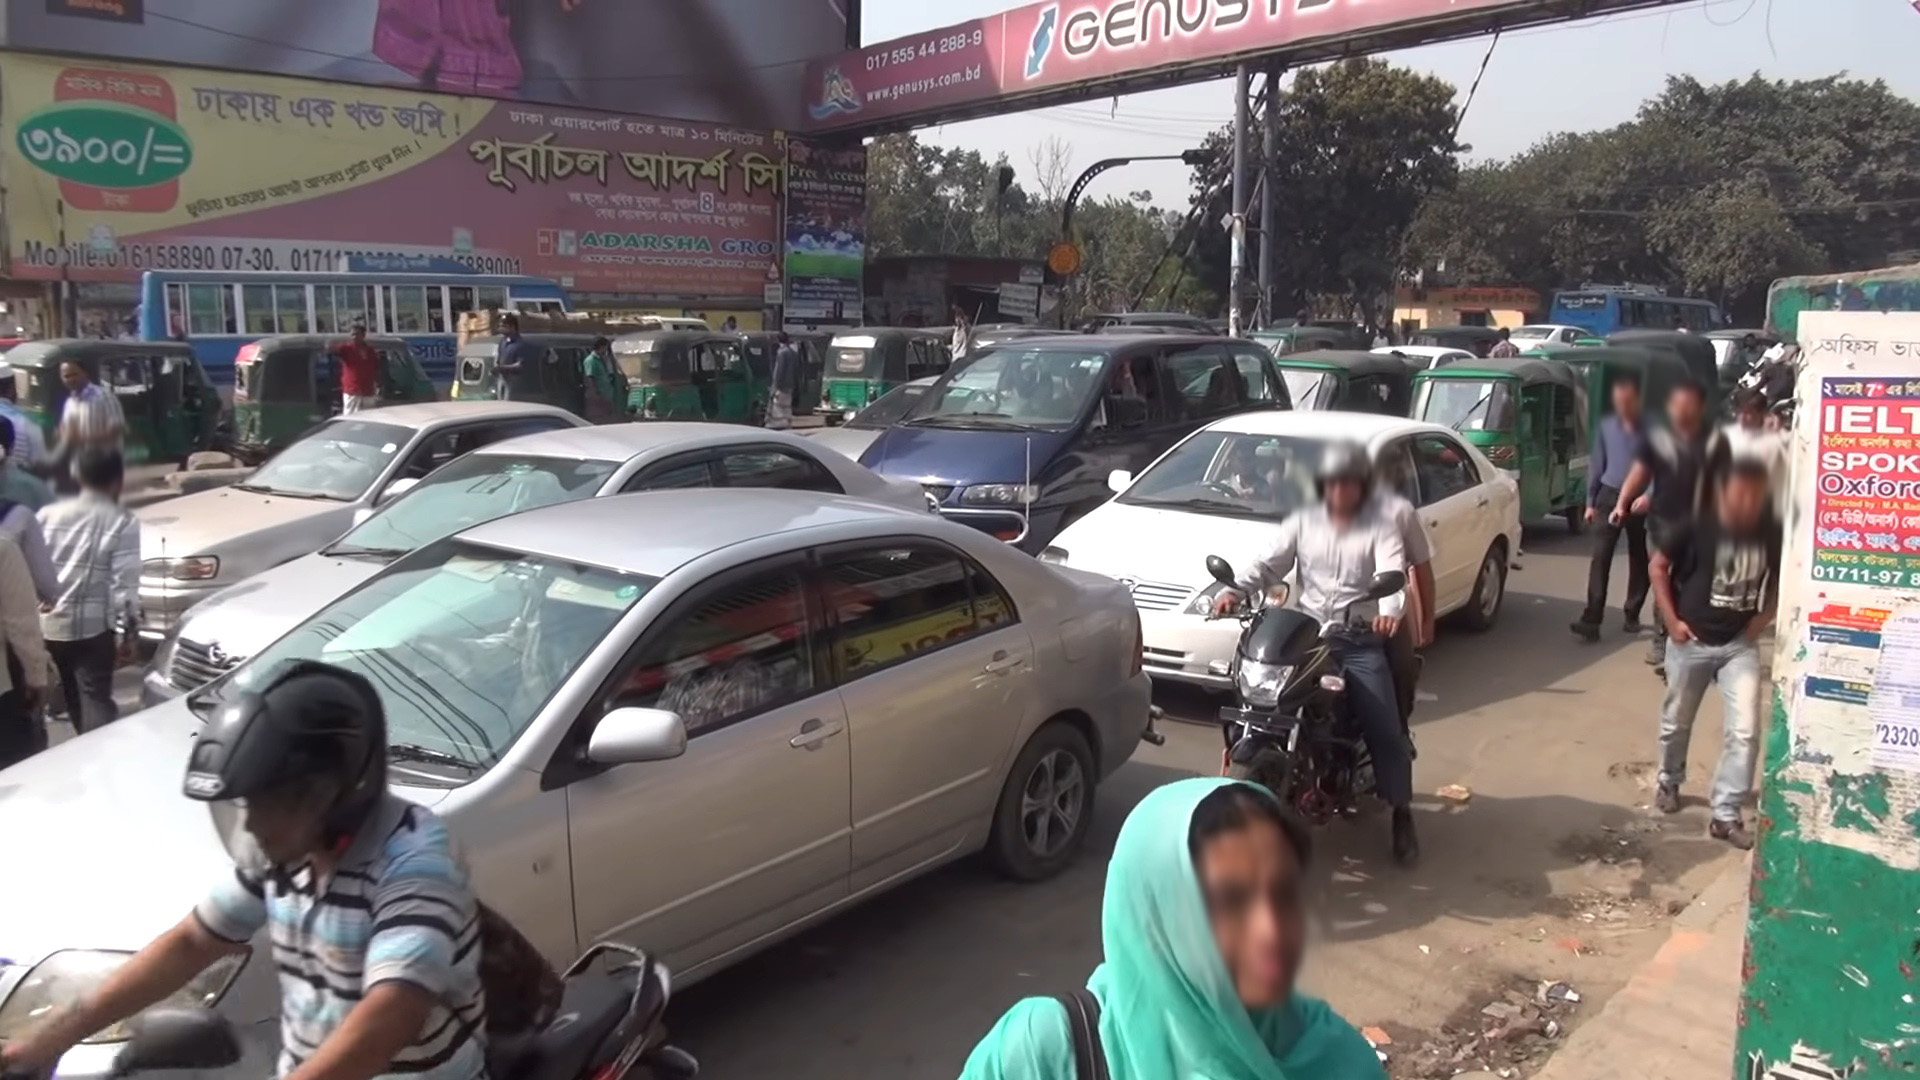bike: (84, 943, 703, 1080), (1207, 555, 1429, 789)
bus: (132, 272, 578, 368)
car: (1, 480, 1163, 1077), (138, 415, 945, 705), (1036, 411, 1528, 687), (124, 397, 585, 647), (861, 330, 1290, 543), (815, 375, 940, 459), (1505, 318, 1586, 353)
cng: (1407, 359, 1600, 543), (1, 343, 237, 465), (229, 328, 444, 455), (1532, 349, 1687, 458), (451, 330, 638, 411), (615, 334, 774, 425), (820, 326, 959, 426), (1601, 328, 1716, 409), (1278, 353, 1420, 414), (1712, 324, 1776, 392)
